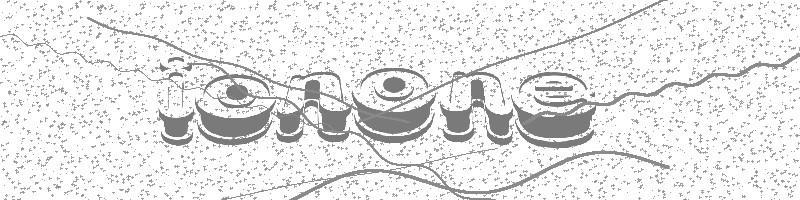e: (513, 71, 596, 149)
i: (157, 55, 195, 146)
n: (275, 70, 351, 145), (439, 70, 515, 145)
o: (352, 66, 436, 144), (197, 74, 276, 146)
